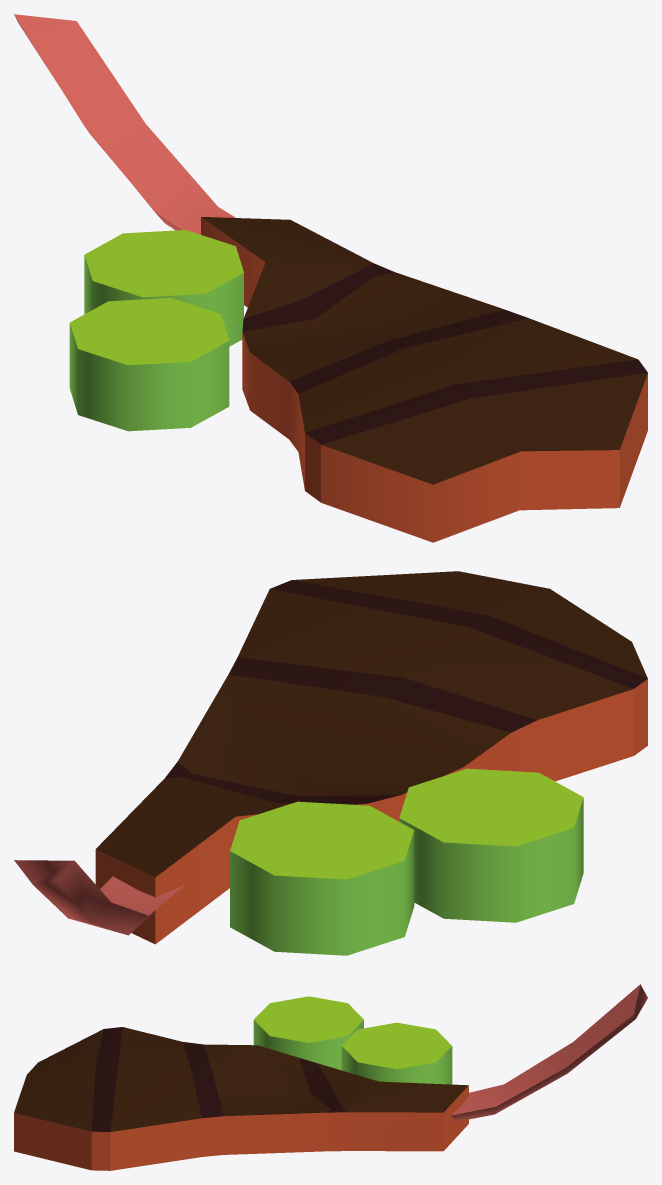
The model's file is SM_AngusAAA.FBX.
The picture shows the model from 3 angles, top to bottom: view 1: azimuth 30°, elevation 25°; view 2: azimuth 150°, elevation 25°; view 3: azimuth 270°, elevation 25°; orthographic projection. The views are drawn at different scales.
Visible parts, largest first — view 1: SM_AngusAAA; view 2: SM_AngusAAA; view 3: SM_AngusAAA.
Part boxes in pixels (x1,y1,x2,y2): SM_AngusAAA: (14, 14, 647, 542); SM_AngusAAA: (14, 571, 647, 955); SM_AngusAAA: (14, 984, 647, 1170).
Size of the model in its own units: 9.22 by 4.24 by 18.4.
